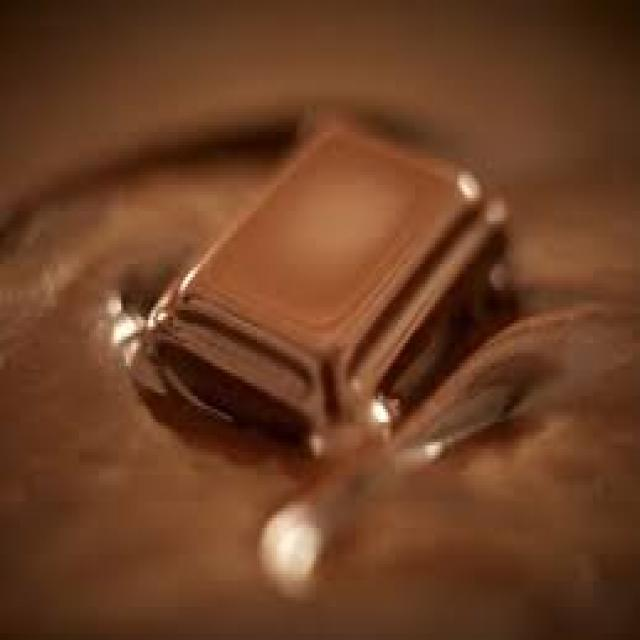Chocolate: (0, 0, 640, 640), (145, 111, 512, 466)
